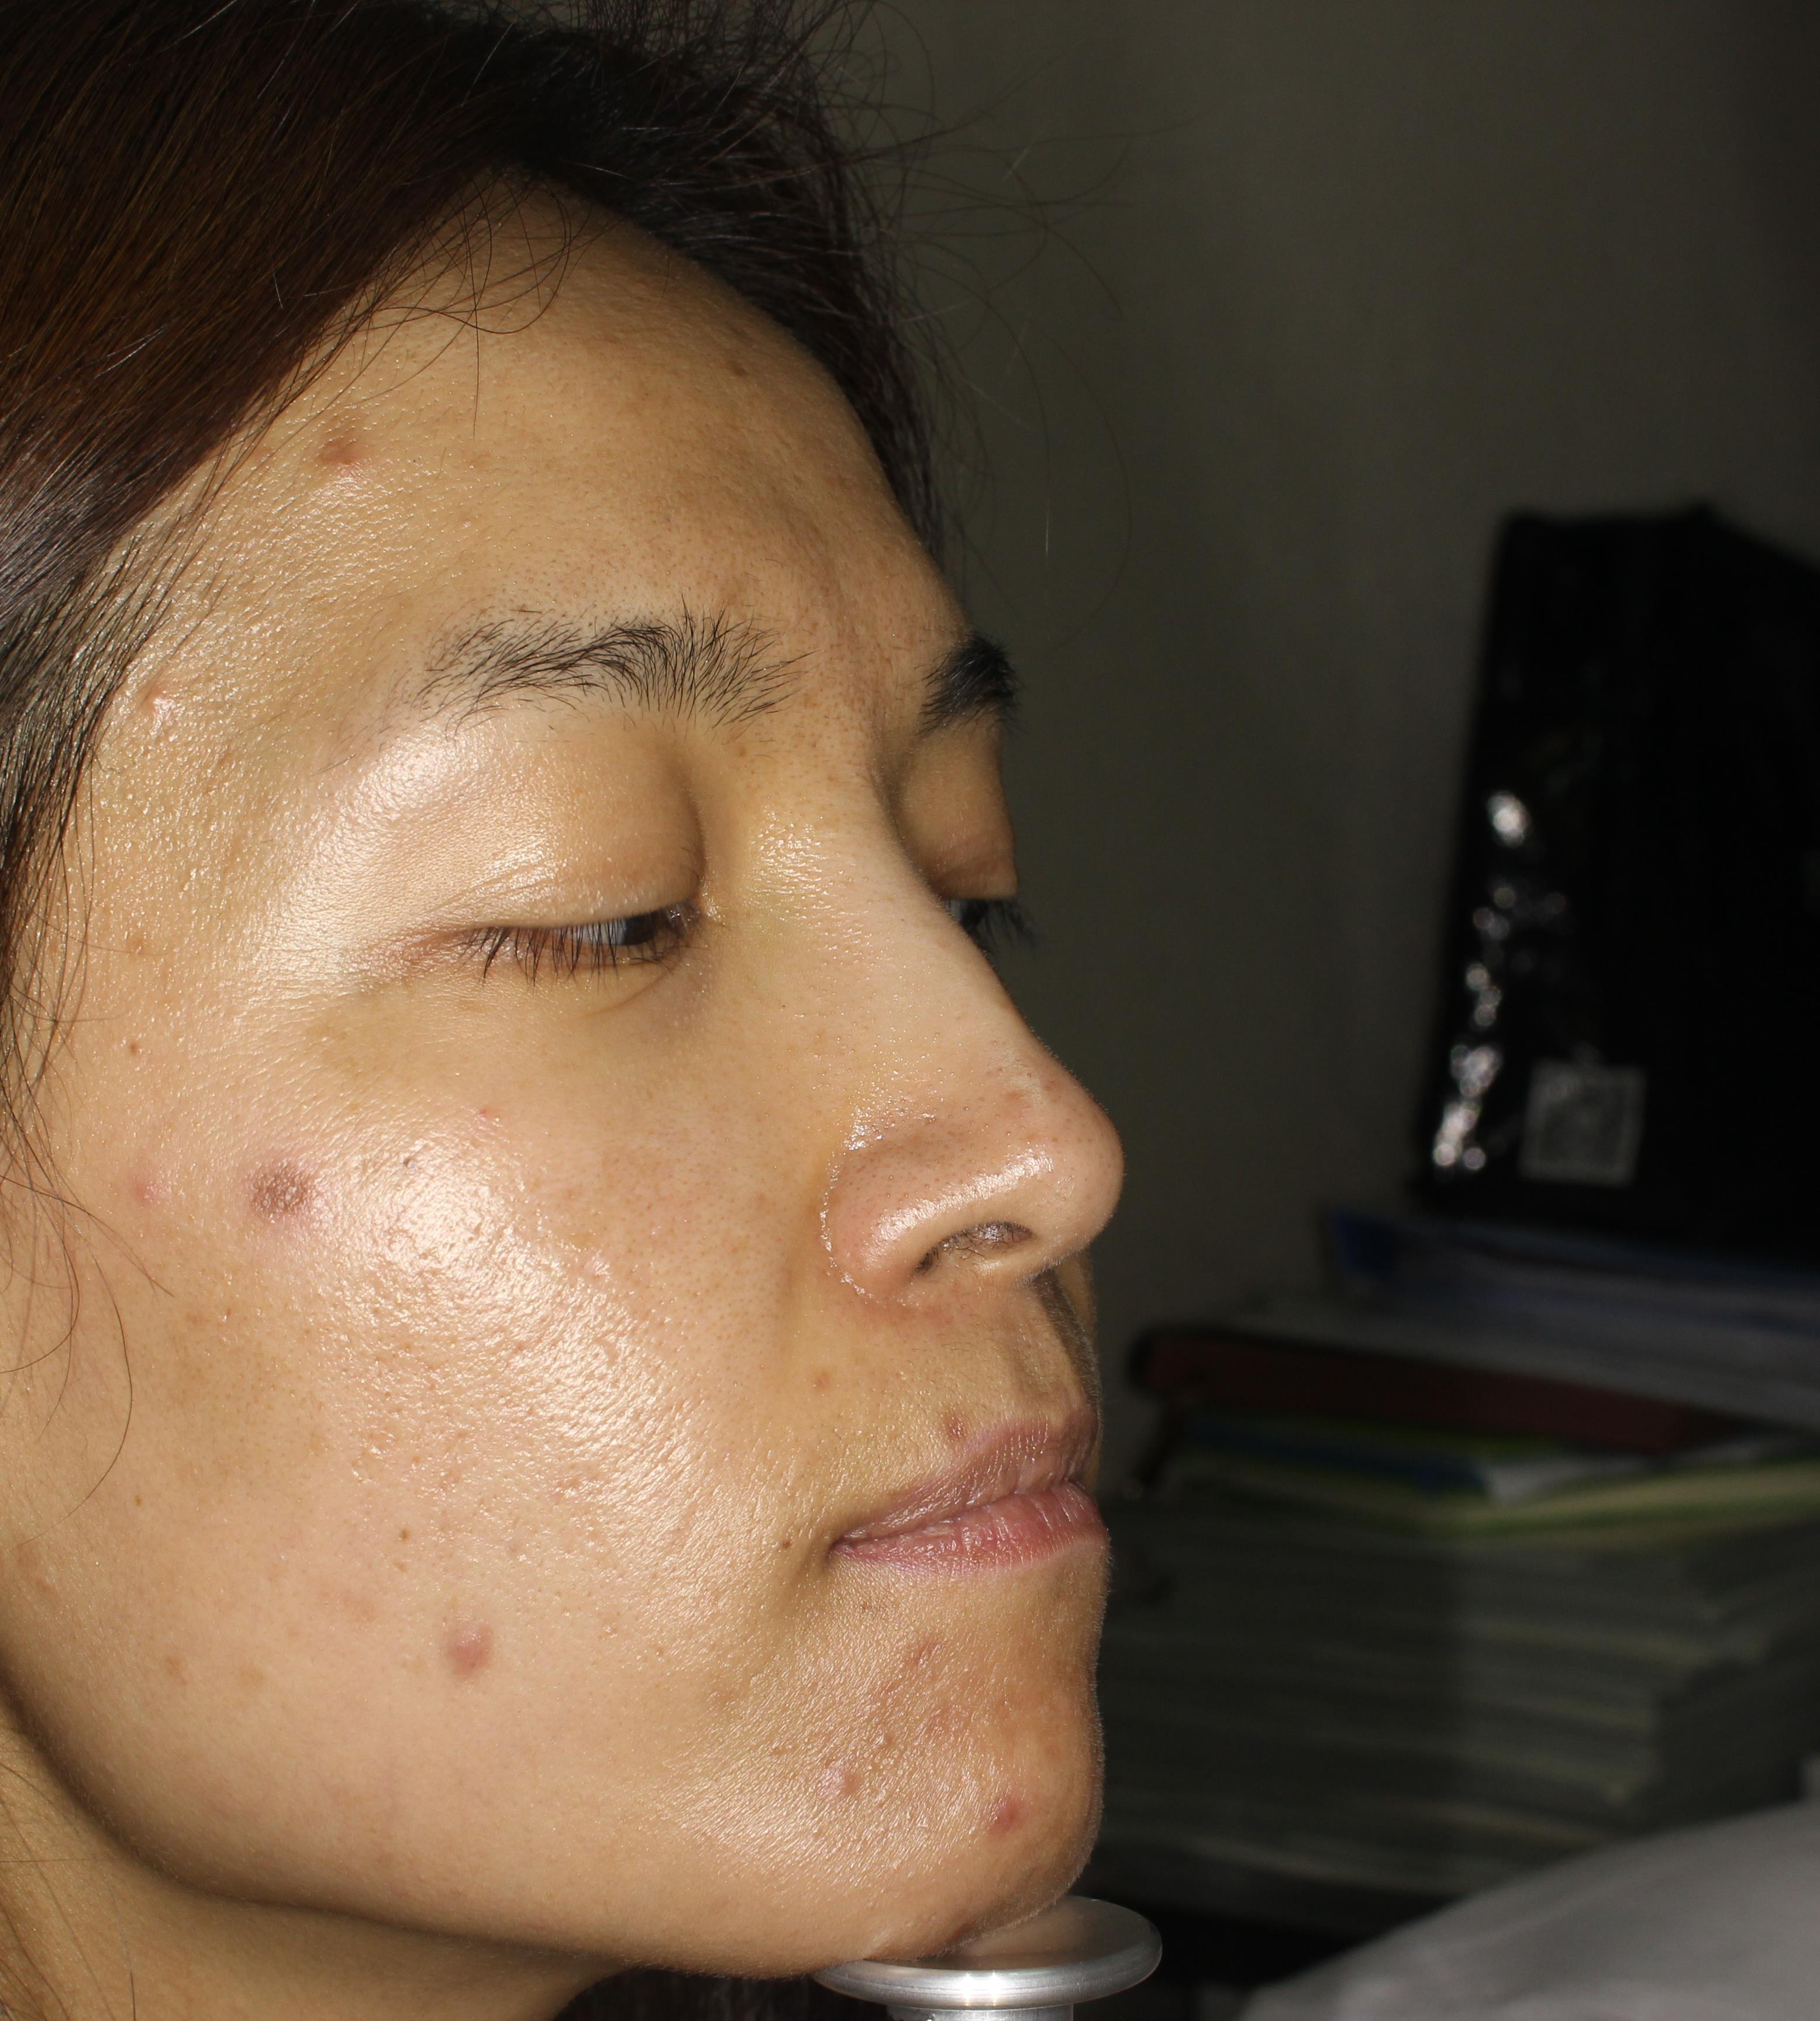fore: (418, 1580, 502, 1696), (234, 1133, 320, 1245), (964, 1773, 1045, 1872), (866, 1626, 942, 1701), (311, 406, 378, 483), (100, 1150, 158, 1231), (126, 653, 190, 725)
